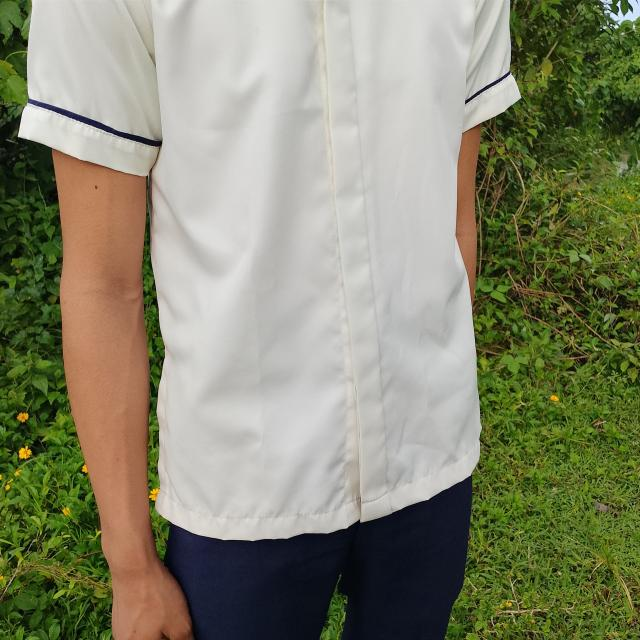education_male_uniform: (1, 0, 592, 565)
